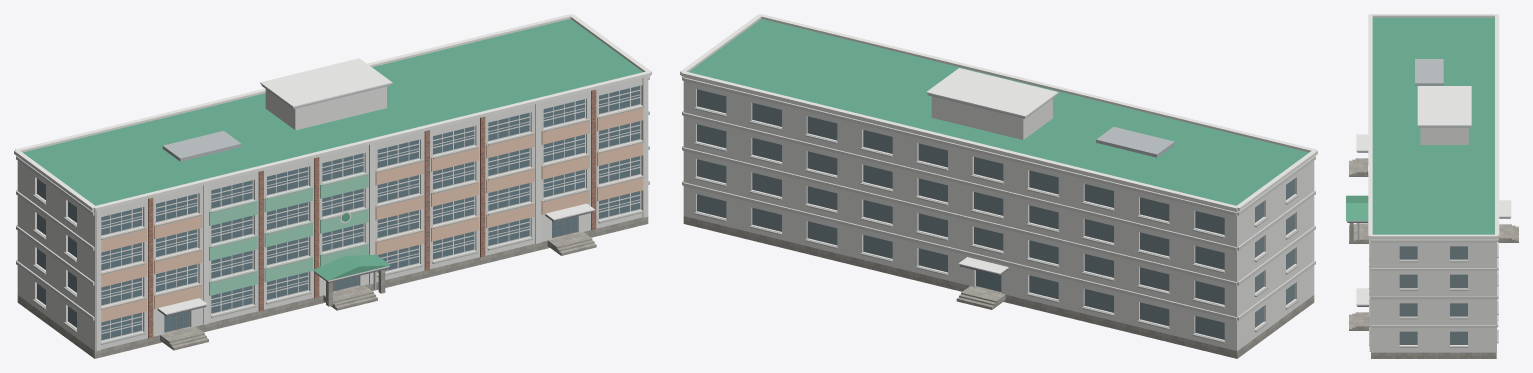
3 renders of one model, left to right at view 1: azimuth 30°, elevation 25°; view 2: azimuth 150°, elevation 25°; view 3: azimuth 270°, elevation 25°, orthographic. The views are drawn at different scales.
Visible parts, largest first — view 1: main__canopy, main__cap, main__panel, main__glass, main__basepaint, main__mint, main__brick, main__sill, main__stone, main__band, main__steel, main__sideglass (+2 smaller); view 2: main__panel, main__canopy, main__sideglass, main__cap, main__band, main__frame, main__stone, main__sill, main__steel; view 3: main__canopy, main__panel, main__cap, main__sideglass, main__band, main__frame, main__stone, main__steel, main__sill, main__threshold-front, main__threshold-west-front, main__stair-north-rear (+4 smaller).
Part boxes in pixels (x1,y1,x2,y2): main__canopy: (23,19,642,280); main__cap: (14,14,651,351); main__panel: (17,78,642,350); main__glass: (101,86,640,340); main__basepaint: (101,106,643,322); main__mint: (209,173,368,295); main__brick: (148,89,596,338); main__sill: (33,106,644,344); main__stone: (17,217,648,358); main__band: (16,76,649,320); main__steel: (162,131,376,289); main__sideglass: (37,179,76,326); main__panel: (683,77,1314,350); main__canopy: (689,19,1308,205); main__sideglass: (697,89,1294,338); main__cap: (680,14,1317,274); main__band: (682,76,1315,320); main__frame: (697,89,1294,339); main__stone: (683,216,1314,358); main__sill: (694,107,1298,343); main__steel: (1096,127,1174,157); main__canopy: (1346,17,1494,234); main__panel: (1371,127,1496,352); main__cap: (1346,14,1511,351); main__sideglass: (1400,246,1467,344); main__band: (1371,238,1498,327); main__frame: (1399,246,1467,344); main__stone: (1349,223,1496,358); main__steel: (1357,59,1443,240); main__sill: (1369,238,1498,347); main__threshold-front: (1359,223,1368,243); main__threshold-west-front: (1359,312,1369,330); main__stair-north-rear: (1508,224,1518,242).
Bounding box in the file's own units: 58.6 × 17.61 × 19.25.
16 materials, 2 textured.
